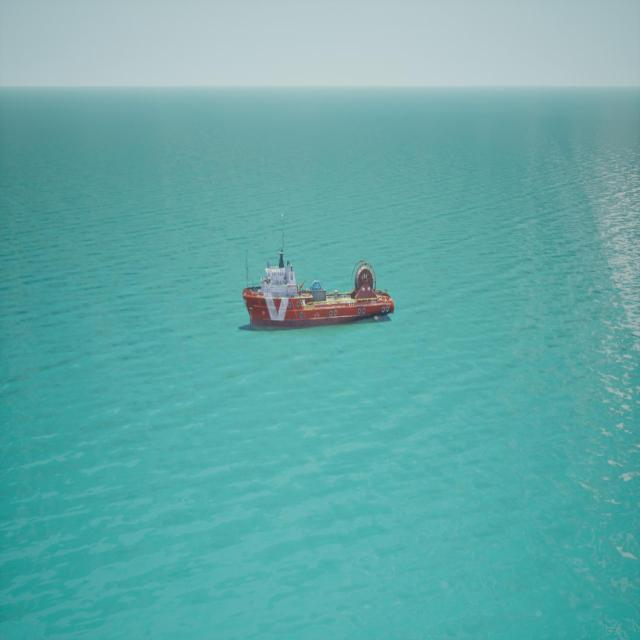tug boat: (240, 226, 394, 336)
